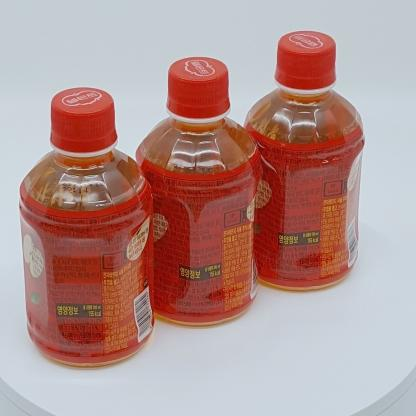----------280ML: (19, 87, 154, 367), (134, 56, 261, 326), (243, 30, 364, 291)
